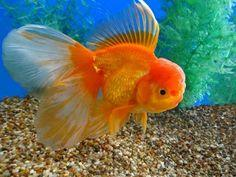goldfish: (23, 21, 193, 134)
